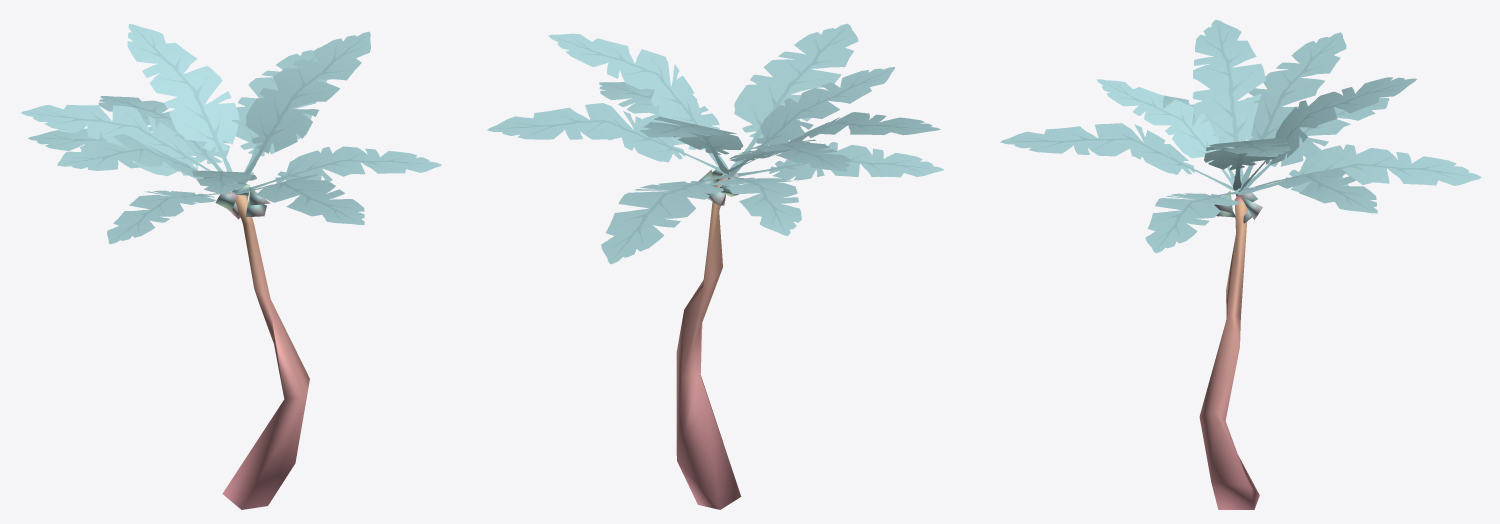
The model's file is LOD1cocoTreeV1.1.fbx.
3 renders of one model, left to right at view 1: azimuth 30°, elevation 25°; view 2: azimuth 150°, elevation 25°; view 3: azimuth 270°, elevation 25°, orthographic. The views are drawn at different scales.
Parts seen in each view (by area): view 1: palmtree_04.011; view 2: palmtree_04.011; view 3: palmtree_04.011.
Boxes of the visible parts, x1=… form: palmtree_04.011: x1=20, y1=23, x2=441, y2=509; palmtree_04.011: x1=487, y1=23, x2=943, y2=509; palmtree_04.011: x1=1000, y1=19, x2=1481, y2=509.
Size of the model in its own units: 715 by 763 by 818.
